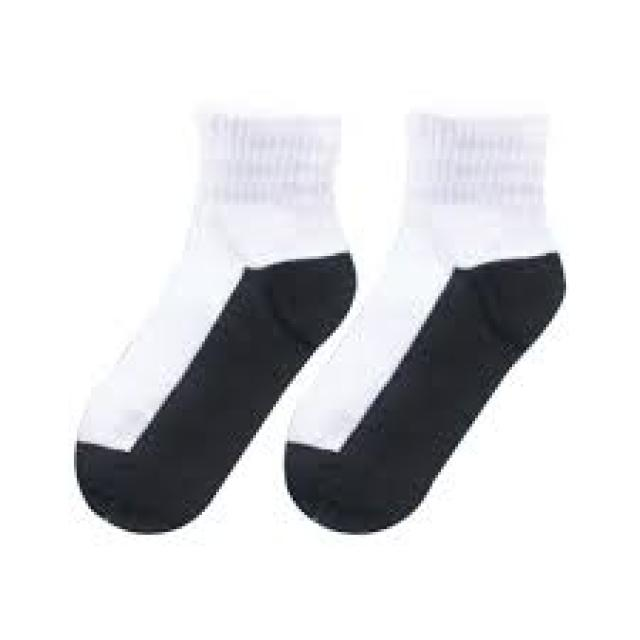sock: (282, 247, 566, 535)
